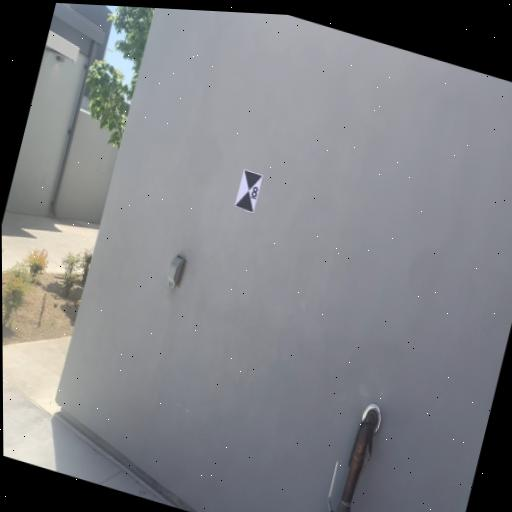target8: (235, 169, 264, 213)
